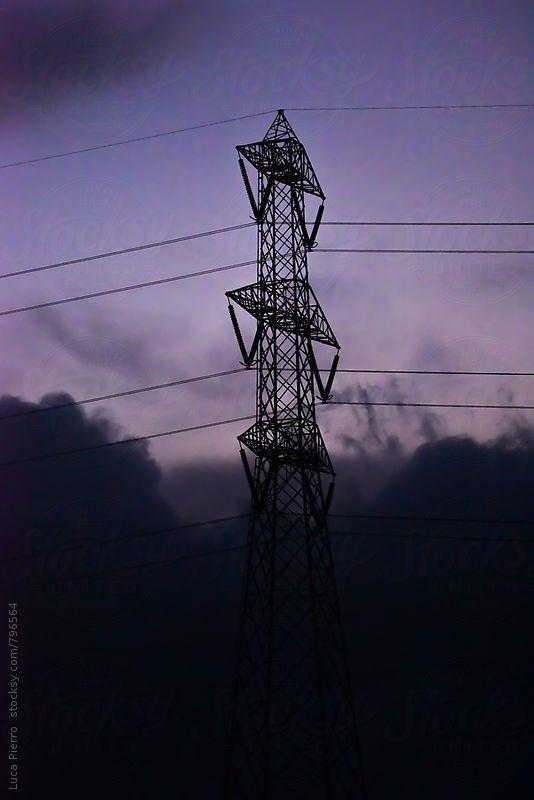power_tower: (210, 106, 379, 780)
